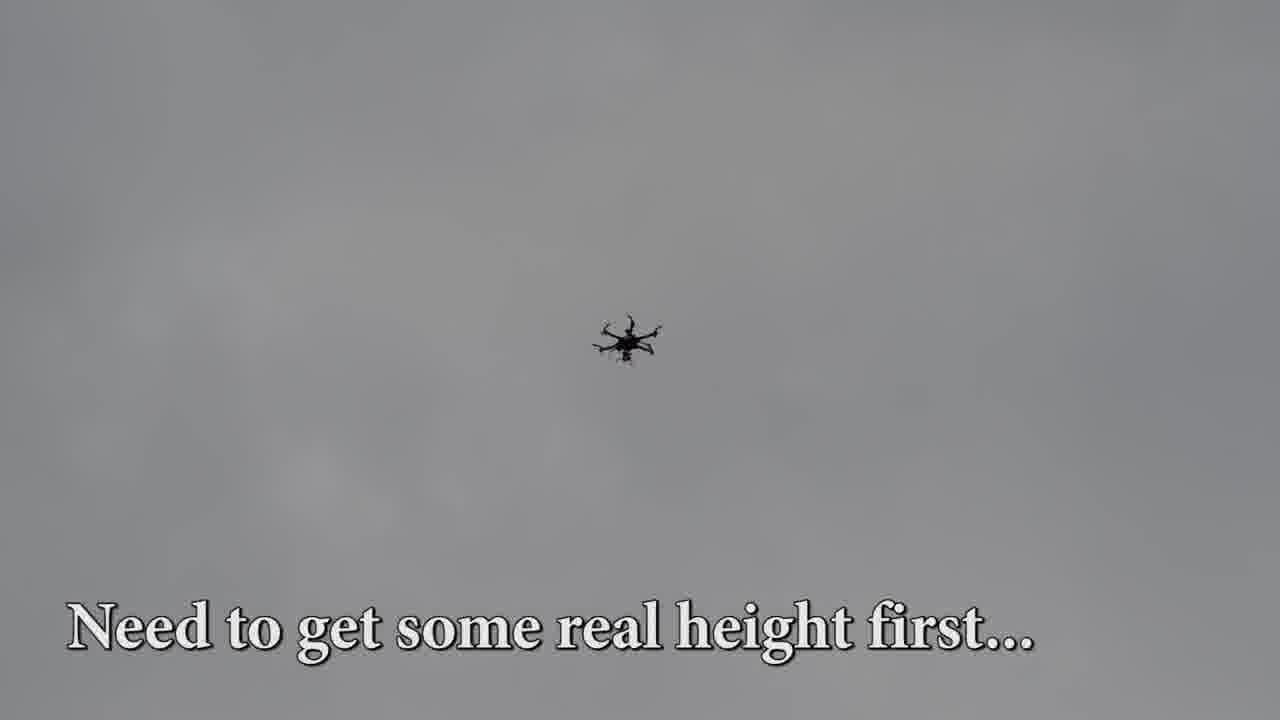drone: (584, 307, 668, 371)
